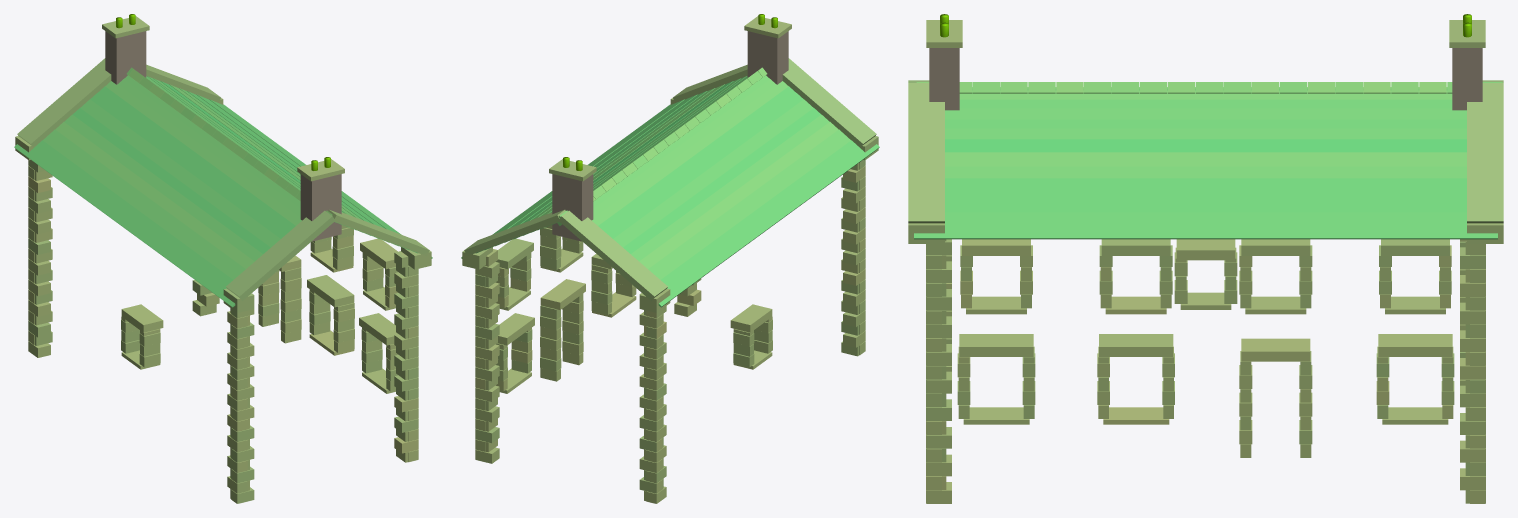
File: SM_Bld_003_Stone.glb
3 renders of one model, left to right at view 1: azimuth 30°, elevation 25°; view 2: azimuth 150°, elevation 25°; view 3: azimuth 270°, elevation 25°, orthographic. The views are drawn at different scales.
Parts seen in each view (by area): view 1: SM_Bld_003_Stone; view 2: SM_Bld_003_Stone; view 3: SM_Bld_003_Stone.
Boxes of the visible parts, x1=… form: SM_Bld_003_Stone: x1=14, y1=14, x2=432, y2=503; SM_Bld_003_Stone: x1=461, y1=14, x2=879, y2=503; SM_Bld_003_Stone: x1=908, y1=14, x2=1503, y2=503.
Size of the model in its own units: 6.11 by 9.22 by 11.72.
